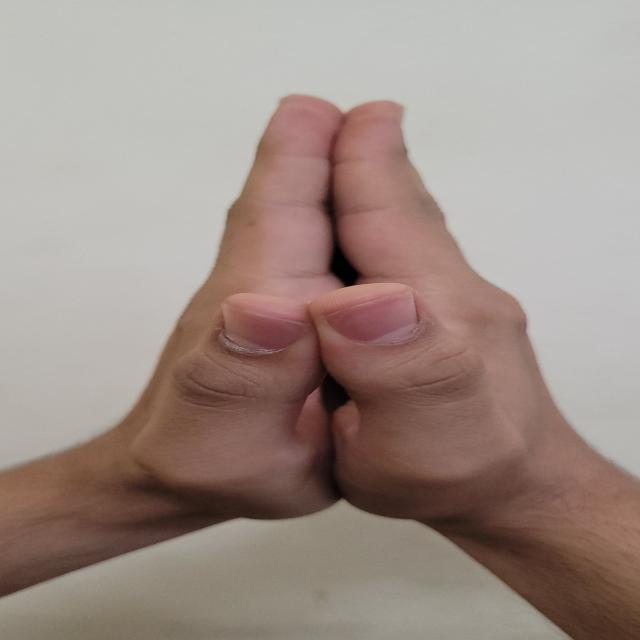Thank You: (128, 68, 640, 612)
